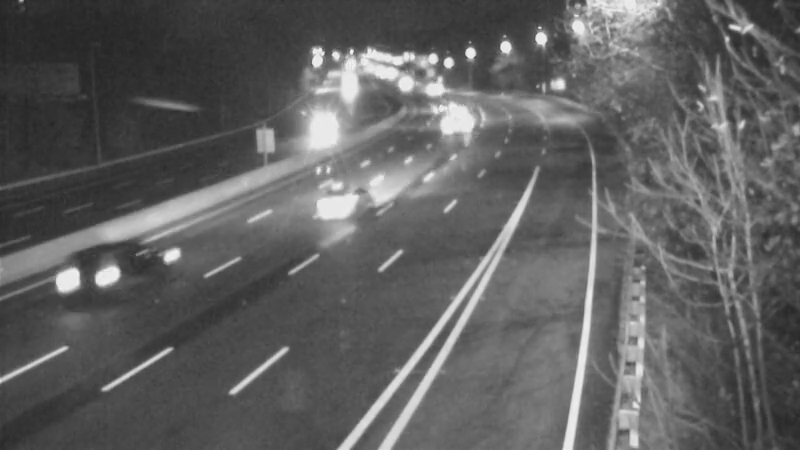vehicle: (306, 163, 386, 243), (47, 238, 127, 318), (373, 56, 423, 106), (410, 62, 460, 112), (420, 88, 470, 138), (428, 98, 478, 148), (300, 110, 350, 160), (325, 63, 375, 113)
